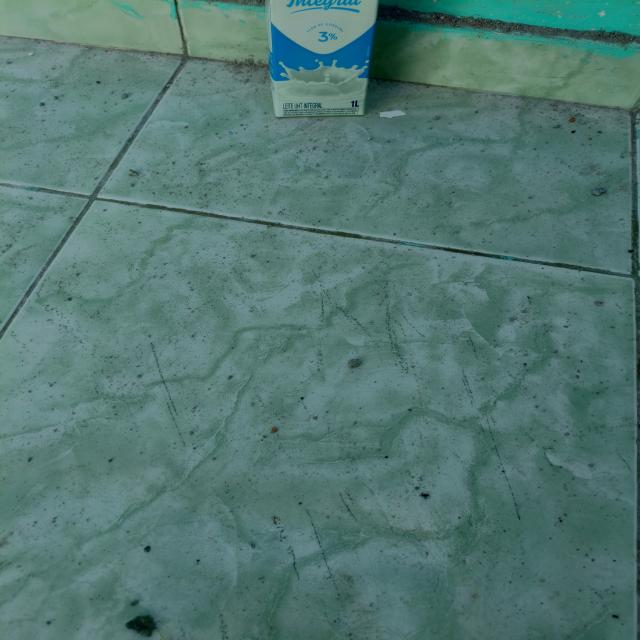Caixa de Leite: (264, 3, 384, 121)
